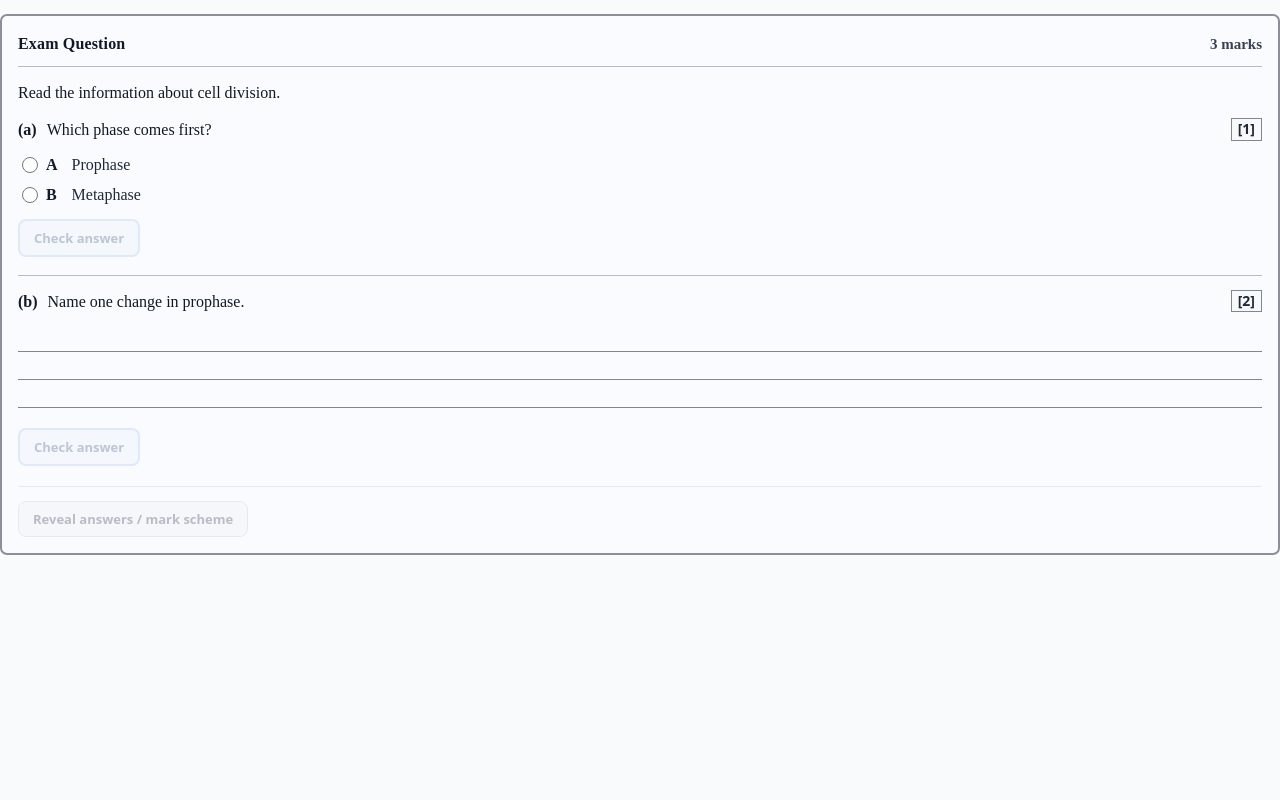
Test: ExamQuestionBlock composite question marking › total score updates when multiple parts are checked
Click the radio button labelled "A Prophase" at (30, 165), box x1=22 y1=157 x2=38 y2=173
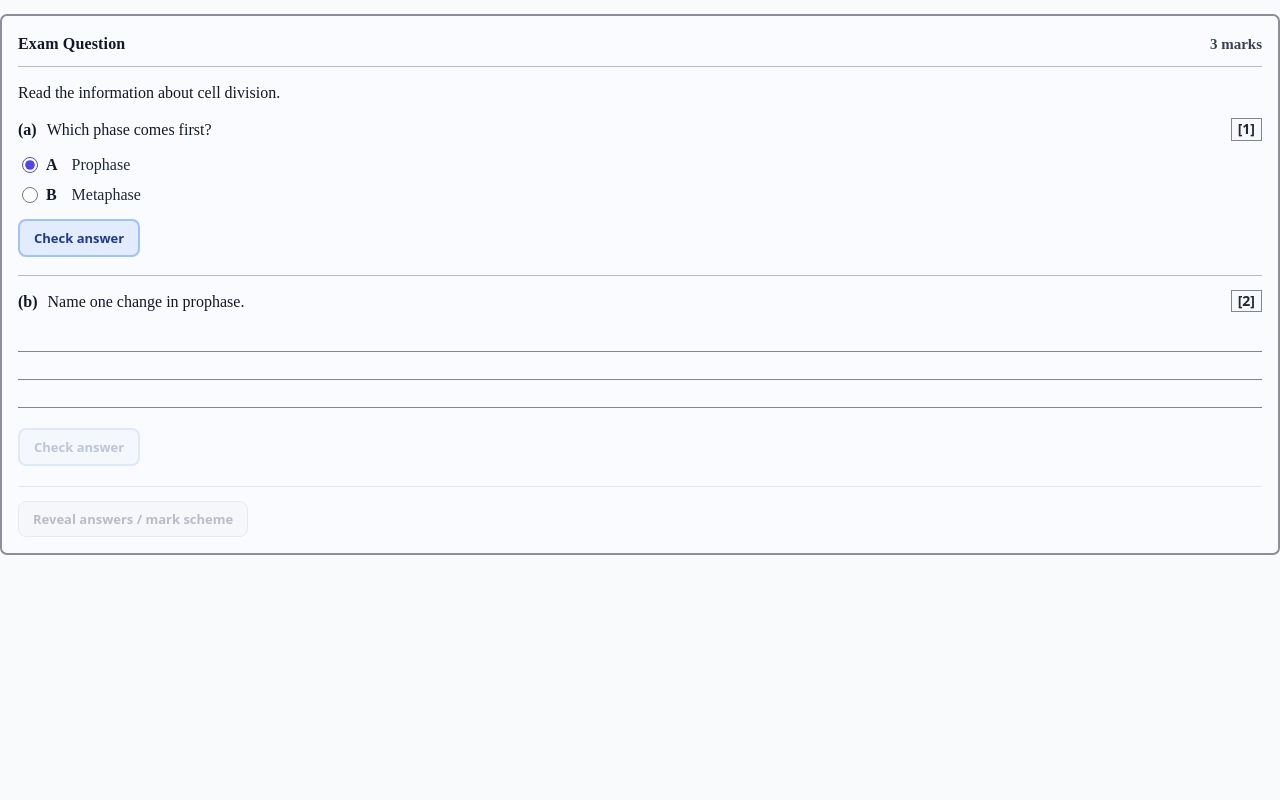
Type "Chromosomes condense" into the text box named "your answer" at (640, 370), box x1=18 y1=324 x2=1262 y2=416
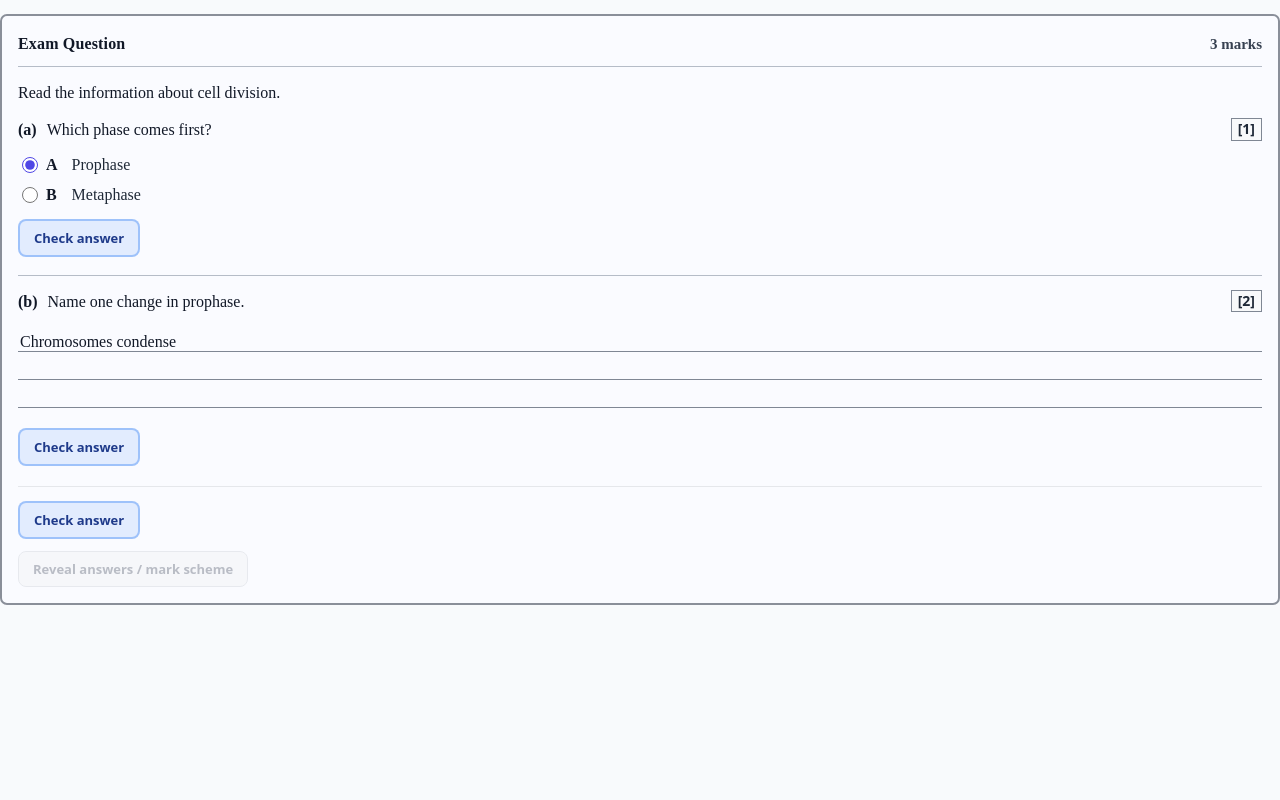
Click the button with test id "exam-composite-check-all-btn" at (79, 520), box x1=18 y1=501 x2=140 y2=539
(page scrolled)
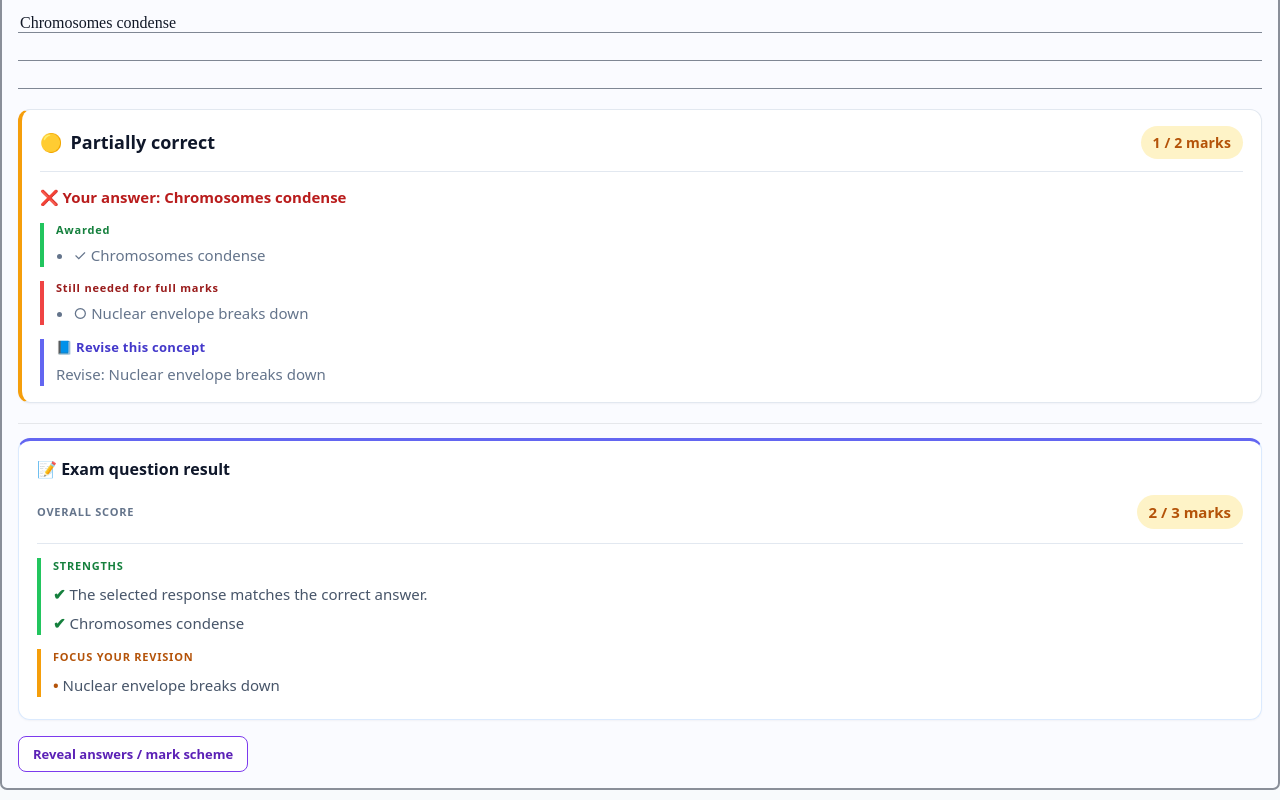
Now the element with test id "exam-composite-result-summary" shows "📝 Exam question result", box x1=37 y1=458 x2=230 y2=480
Now the text with test id "exam-composite-overall-score" reads "2 / 3 marks", box x1=1136 y1=495 x2=1243 y2=529
Now the element with test id "exam-composite-result-summary" shows "Strengths", box x1=53 y1=558 x2=124 y2=573
